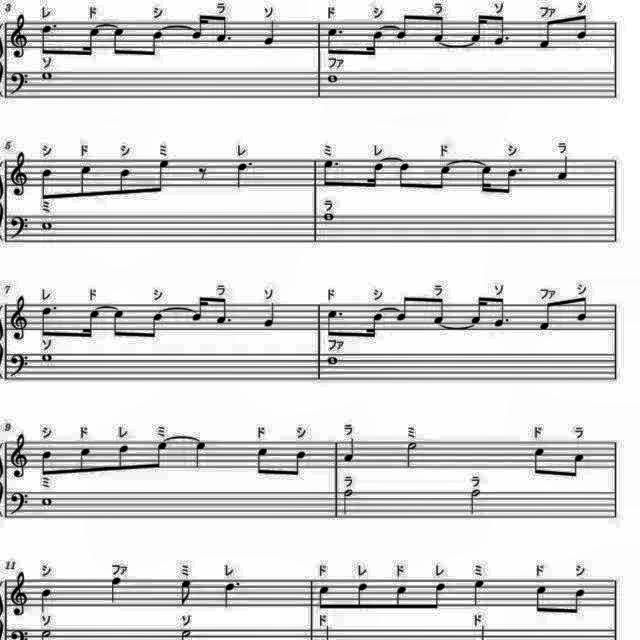Bass-clef: (8, 212, 32, 242), (8, 69, 32, 99), (8, 350, 32, 378), (8, 489, 32, 517)
Eighth-note: (36, 301, 62, 339), (150, 156, 174, 197), (498, 162, 524, 198), (147, 438, 171, 474), (142, 308, 166, 344), (488, 296, 512, 332), (324, 23, 348, 57), (142, 27, 166, 61), (37, 19, 59, 56), (110, 304, 132, 341), (76, 161, 96, 201), (531, 442, 553, 478), (253, 444, 275, 480), (286, 446, 310, 479), (318, 157, 342, 190), (564, 450, 588, 482), (108, 21, 128, 59), (491, 10, 512, 46), (565, 583, 587, 617), (324, 305, 346, 339), (431, 162, 454, 194), (530, 580, 550, 616), (111, 441, 132, 475), (211, 294, 233, 326), (538, 303, 558, 337), (213, 14, 234, 46), (175, 578, 197, 608), (37, 166, 55, 202), (430, 296, 450, 328), (113, 166, 133, 198), (394, 160, 414, 192), (390, 582, 410, 614), (538, 18, 558, 50), (352, 579, 372, 611), (428, 580, 448, 612), (74, 442, 94, 474), (571, 292, 591, 324), (392, 12, 412, 44), (574, 12, 592, 44), (393, 294, 411, 326), (430, 16, 450, 44), (37, 448, 55, 479), (315, 583, 333, 613)
Eighth-rest: (195, 161, 213, 183)
Full-note: (37, 217, 55, 233), (39, 350, 57, 366), (37, 68, 54, 84), (37, 494, 54, 510), (324, 354, 341, 366)
Half-dot: (320, 210, 340, 238)
Half-note: (404, 437, 422, 469), (340, 487, 358, 518), (466, 486, 482, 516)
Quarter-dot: (230, 162, 254, 194), (220, 576, 244, 608)
Quarter-note: (468, 576, 488, 608), (189, 440, 209, 472), (262, 18, 282, 48), (262, 302, 282, 331), (106, 575, 125, 605), (554, 156, 574, 184), (37, 586, 55, 614), (342, 436, 360, 464)
Sixteenth-note: (77, 20, 103, 58), (78, 303, 102, 342), (360, 28, 384, 61), (361, 158, 385, 190), (362, 309, 384, 343), (476, 162, 496, 198), (188, 294, 210, 326), (470, 9, 490, 43), (188, 10, 208, 44), (470, 292, 490, 326)
Treble-clef: (6, 567, 30, 617), (8, 151, 32, 201), (8, 12, 32, 62), (6, 432, 30, 482), (6, 293, 30, 339)
